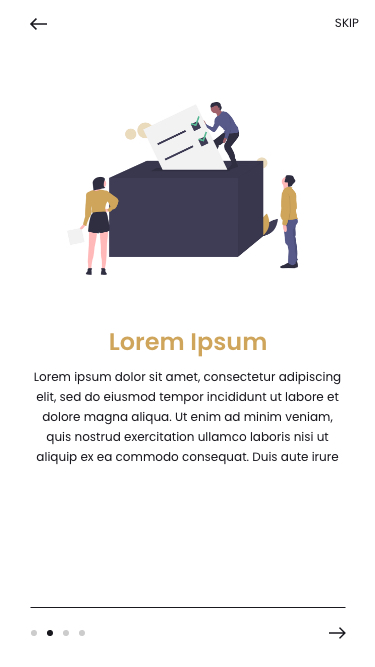Icon: (30, 18, 49, 32), (329, 626, 347, 640)
Image: (68, 102, 299, 276)
PageIndicator: (31, 629, 87, 638)
Text: (34, 371, 341, 465), (110, 332, 267, 358), (334, 18, 360, 29)
